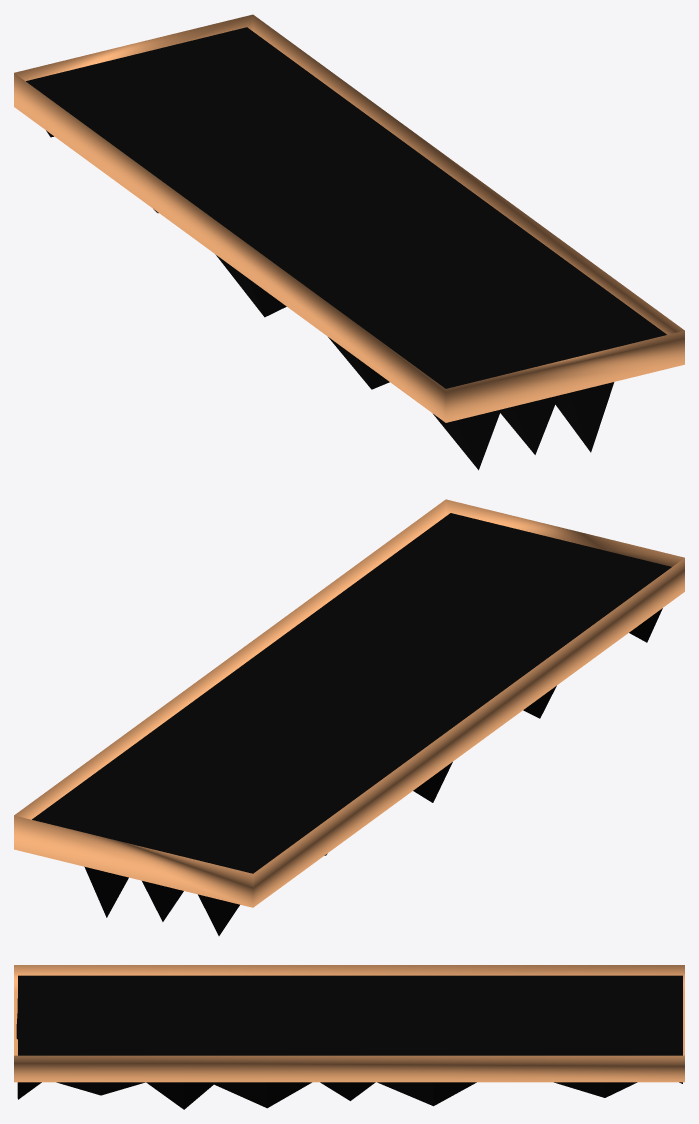
Rendered from trap_down.fbx.
3 renders of one model, top to bottom at view 1: azimuth 30°, elevation 25°; view 2: azimuth 150°, elevation 25°; view 3: azimuth 270°, elevation 25°, orthographic. The views are drawn at different scales.
Parts seen in each view (by area): view 1: trap.down; view 2: trap.down; view 3: trap.down.
Part boxes in pixels (bbox=[...]): trap.down: bbox=[14, 14, 684, 470]; trap.down: bbox=[14, 499, 684, 935]; trap.down: bbox=[14, 965, 684, 1109].
Bounding box in the file's own units: 479 × 219 × 1499.
